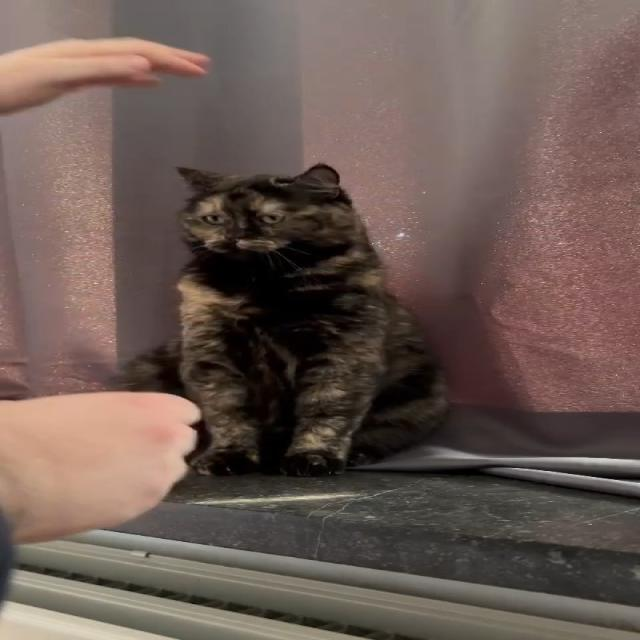authorized: (113, 161, 451, 477)
